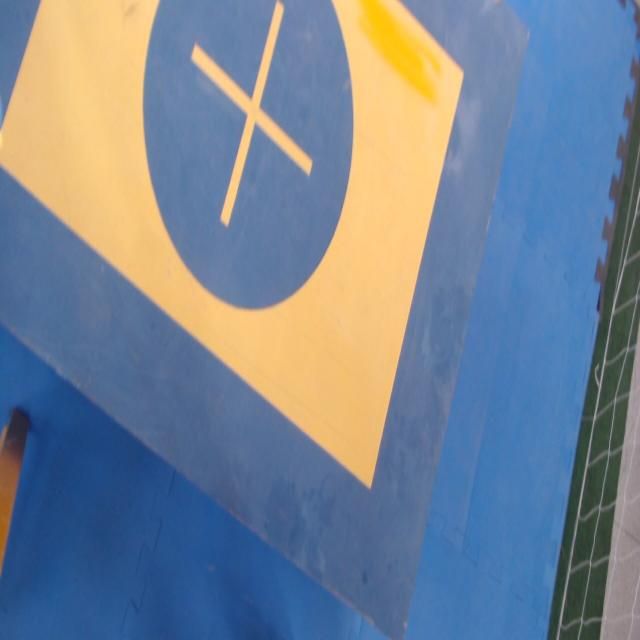base_inicio: (0, 0, 464, 490)
